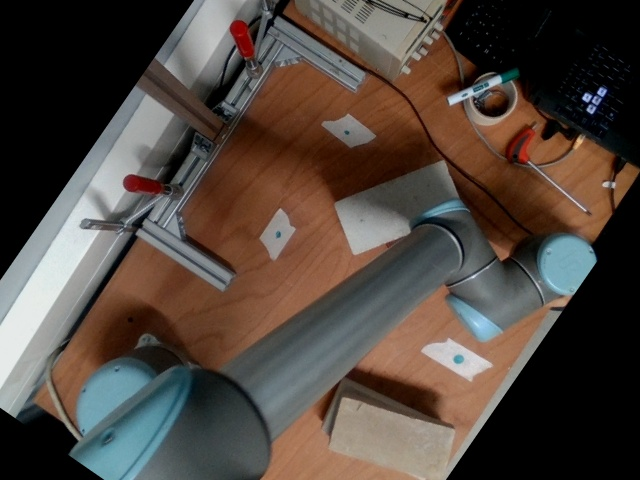brick: (327, 395, 459, 479)
